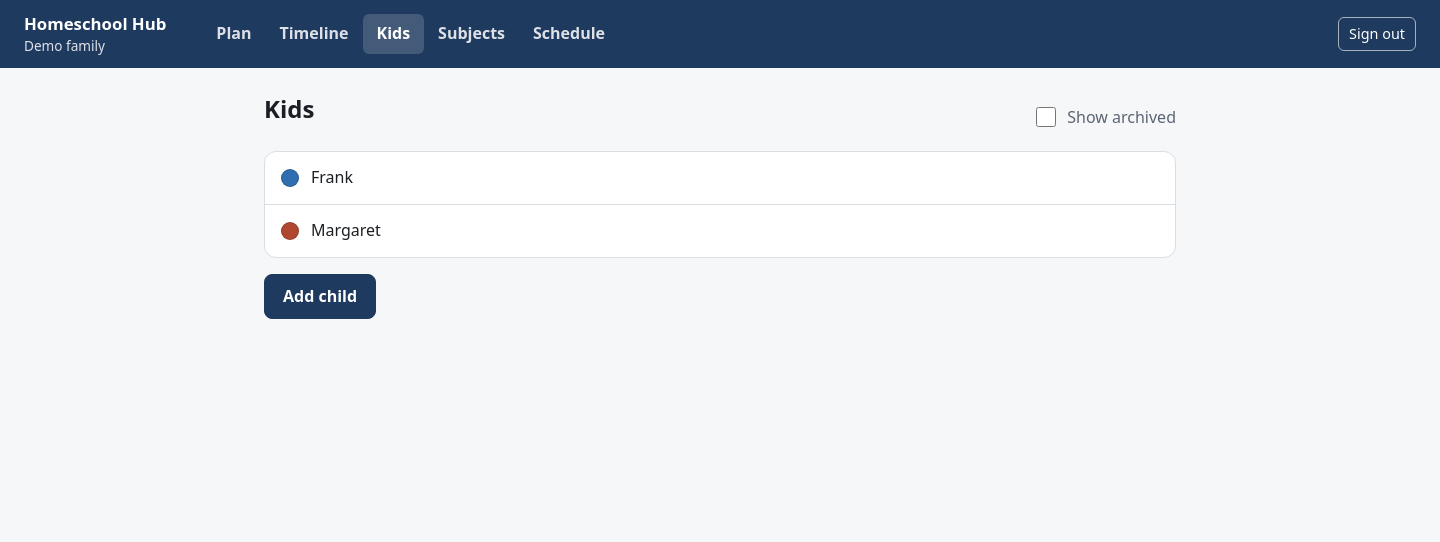
Test: Edit child › tapping a row opens a pre-filled form; rename updates the row in place
Expected: the list named "Kids" is shown, [264, 151, 1176, 258]
Click the button "Frank".
click(332, 177)  # box [265, 152, 1175, 204]
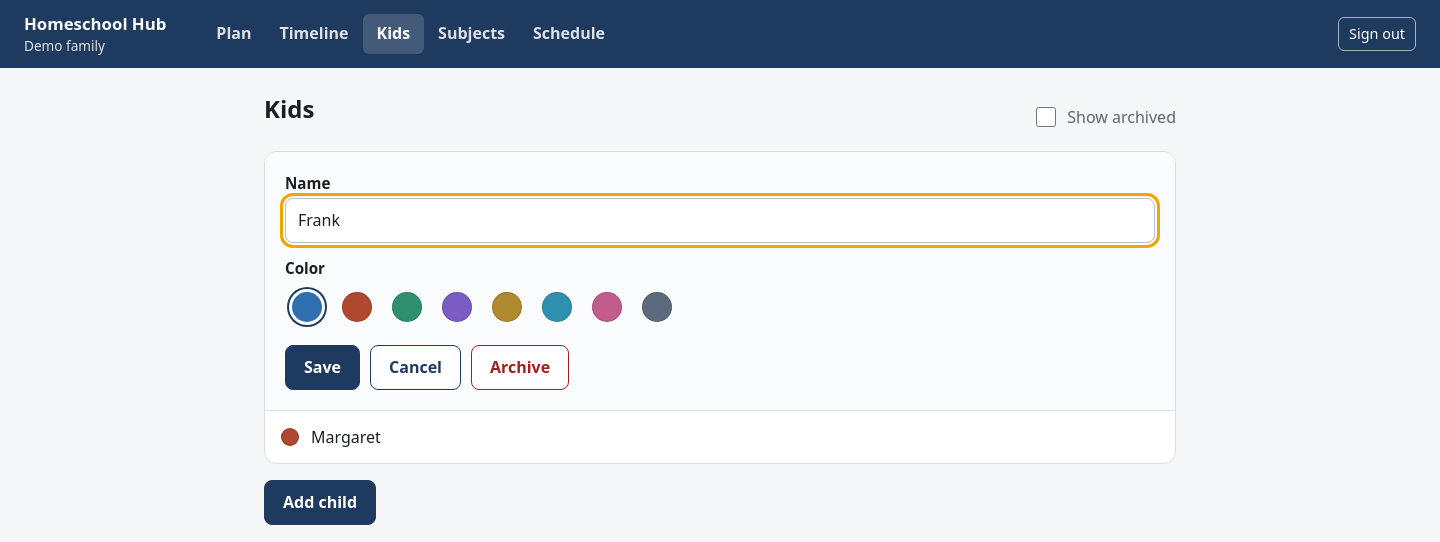
Expected: the field labelled "Name" holds "Frank"
Expected: the radio button named "Blue" is checked, [292, 292, 322, 322]
Replace the text in the field labelled "Name" with "Francis" at (720, 220), box [285, 198, 1155, 243]
Then press Enter
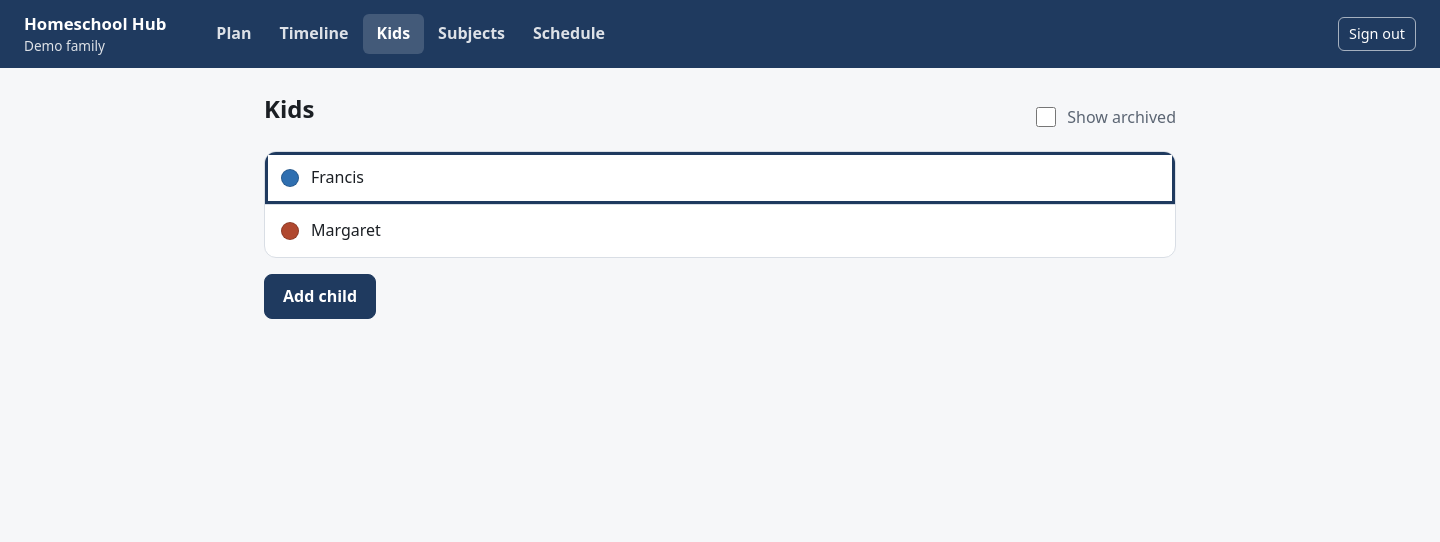
Expected: the button "Francis" is shown, [265, 152, 1175, 204]
